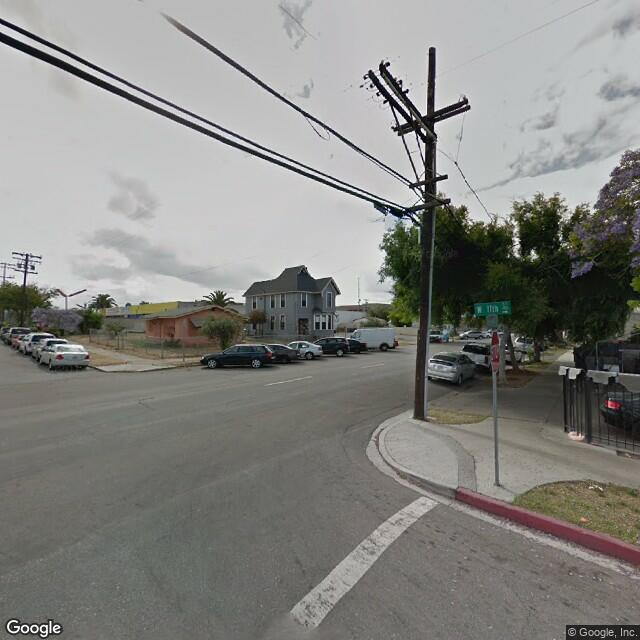litter: (580, 477, 614, 505), (567, 513, 603, 526)
